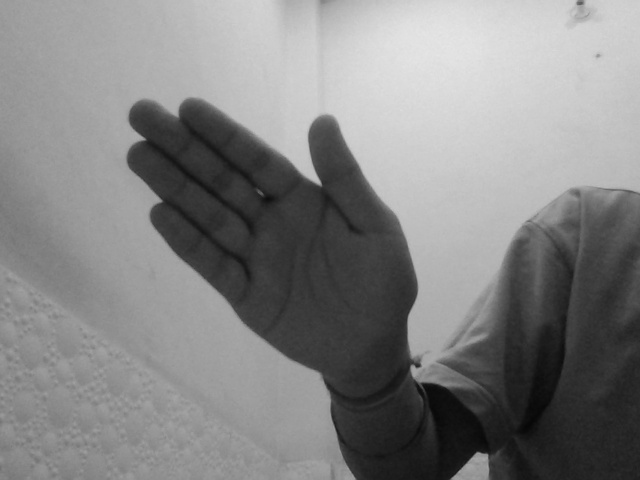Hello: (119, 95, 423, 376)
